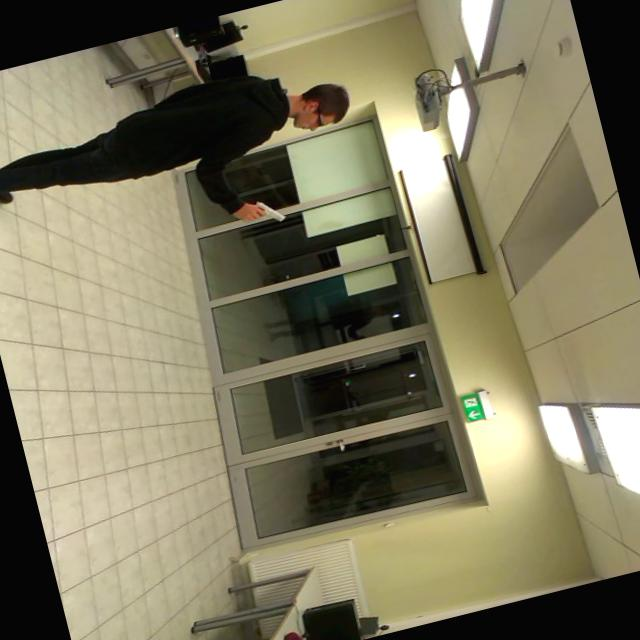handgun: (236, 190, 291, 233)
